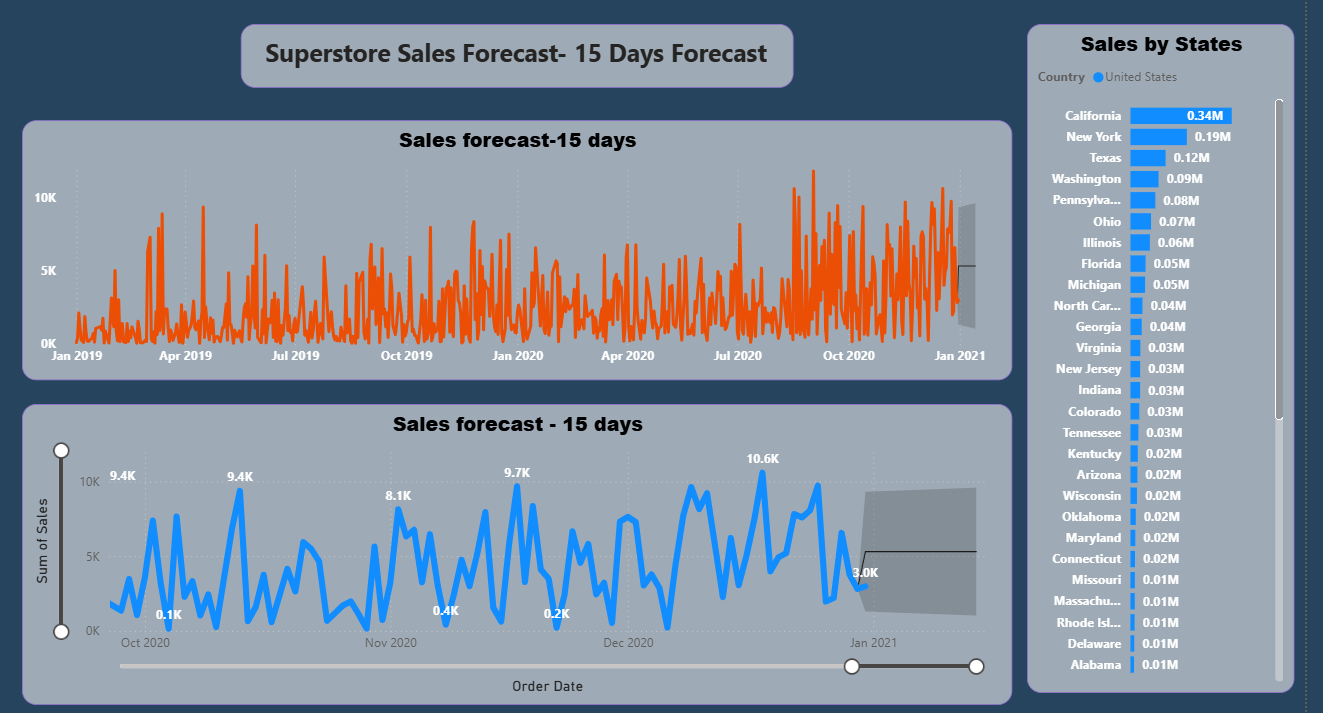

The page's visual inventory and layout, read from the dashboard file:
{"tool":"powerbi","page":{"name":"Page 2","canvas":[1280,720],"ordinal":1},"visuals":[{"type":"lineChart","title":"Sales forecast - 15 days","fields":{"Y":["Sum(SuperStore_Sales_Dataset.Sales)"],"Category":["SuperStore_Sales_Dataset.Order Date"]},"box":[24.5,406,968.5,294.7],"z":0},{"type":"lineChart","title":"Sales forecast-15 days","fields":{"Y":["Sum(SuperStore_Sales_Dataset.Sales)"],"Category":["SuperStore_Sales_Dataset.Order Date"]},"box":[24.5,128.4,968.5,254.3],"z":1000},{"type":"clusteredBarChart","title":"Sales by States","fields":{"Category":["SuperStore_Sales_Dataset.State"],"Y":["Sum(SuperStore_Sales_Dataset.Sales)"],"Series":["SuperStore_Sales_Dataset.Country"]},"box":[1007.6,34.2,261.7,654.2],"z":2000},{"type":"textbox","box":[238.5,34.2,540.5,62.4],"z":3000}]}

Visuals, with their boxes in screenshot pixels (x1, y1, x2, y2):
"Sales forecast - 15 days" lineChart: (left=28, top=401, right=1009, bottom=699)
"Sales forecast-15 days" lineChart: (left=28, top=120, right=1009, bottom=377)
"Sales by States" clusteredBarChart: (left=1024, top=24, right=1289, bottom=687)
textbox: (left=245, top=24, right=792, bottom=87)
